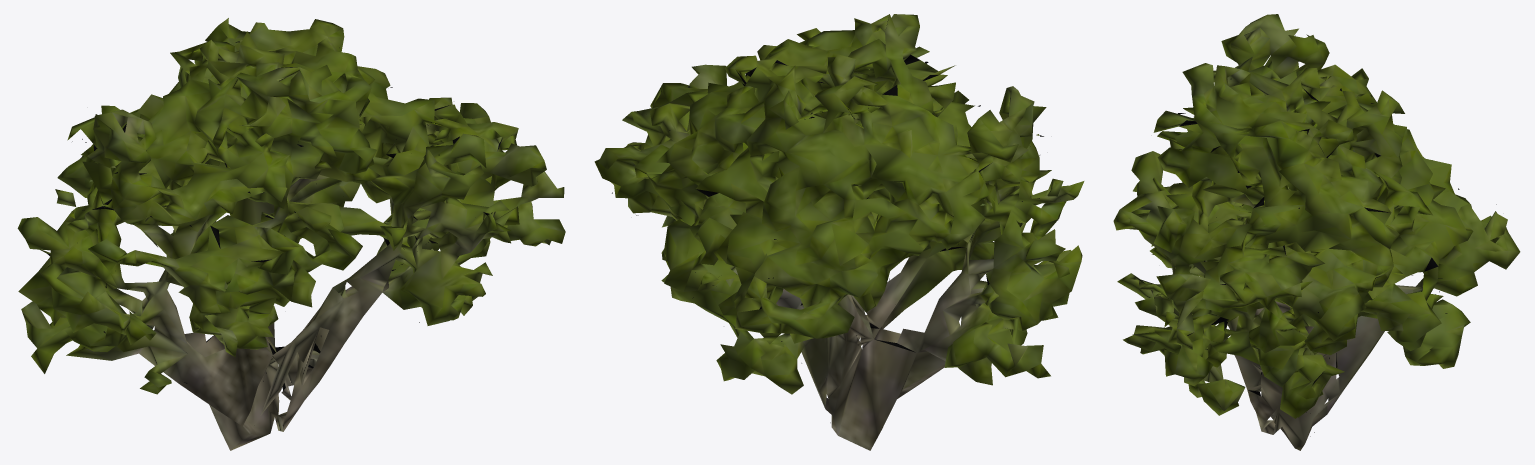
Rendered from env_tree.glb.
3 views of the same model, side by side, from view 1: azimuth 30°, elevation 25°; view 2: azimuth 150°, elevation 25°; view 3: azimuth 270°, elevation 25° (orthographic). The views are drawn at different scales.
Visible parts, largest first — view 1: Mesh_0.001; view 2: Mesh_0.001; view 3: Mesh_0.001.
Part boxes in pixels (box(x1,y1,x2,y2)): Mesh_0.001: box(17, 18, 565, 450); Mesh_0.001: box(594, 14, 1084, 450); Mesh_0.001: box(1113, 14, 1520, 450).
Size of the model in its own units: 9.63 by 7.92 by 7.53.
Materials: 1 (1 with a texture image).
